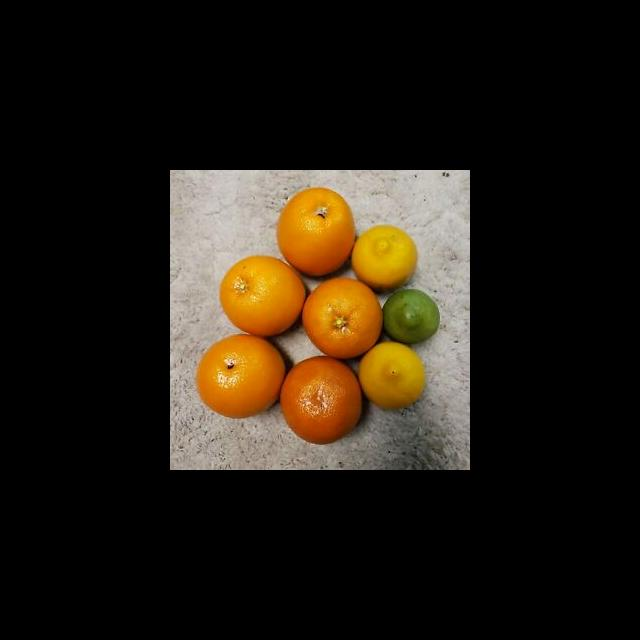lime: (378, 287, 444, 348)
